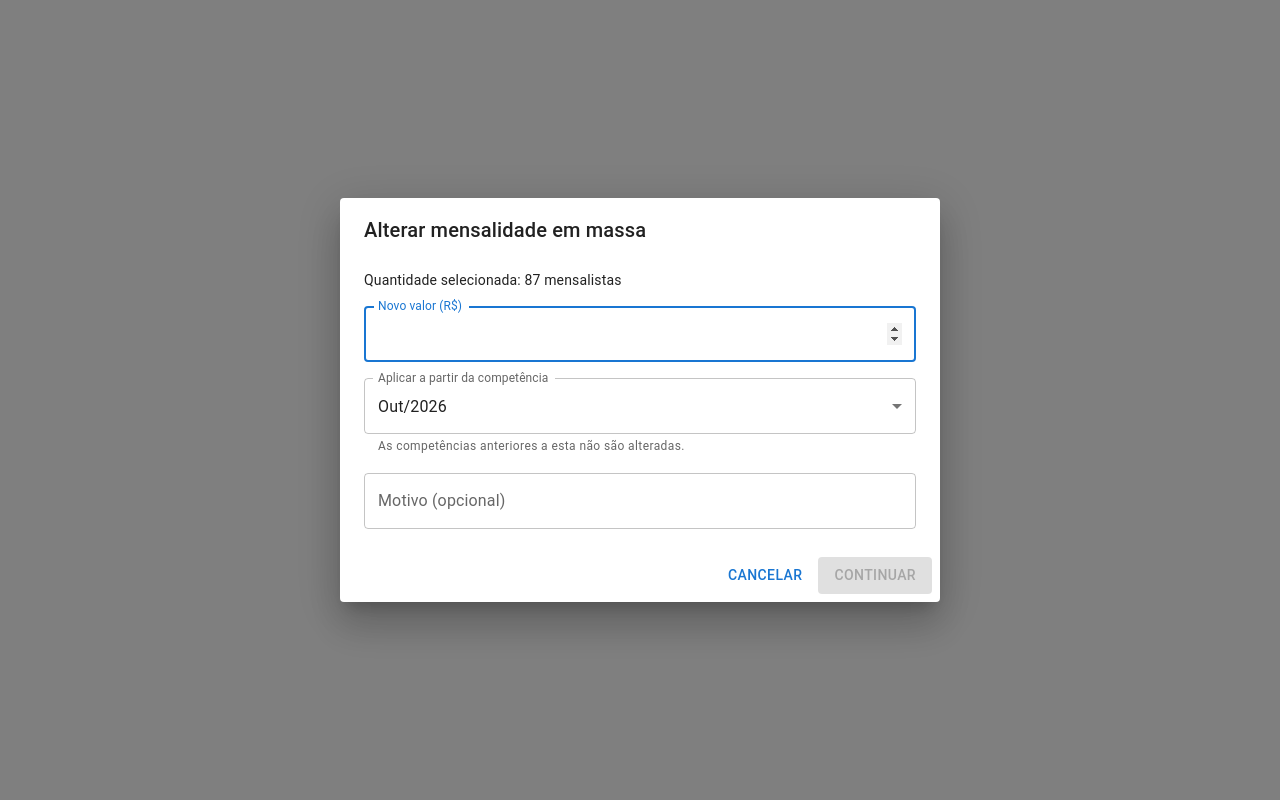
it: alteração em massa › resume valor anterior, novo valor e competência antes de confirmar
Expected: the text "Quantidade selecionada: 87 mensalistas" is shown, [364, 272, 622, 288]
Type "120" into the number field labelled "Novo valor (R$)" at point(640, 334), box [364, 306, 916, 362]
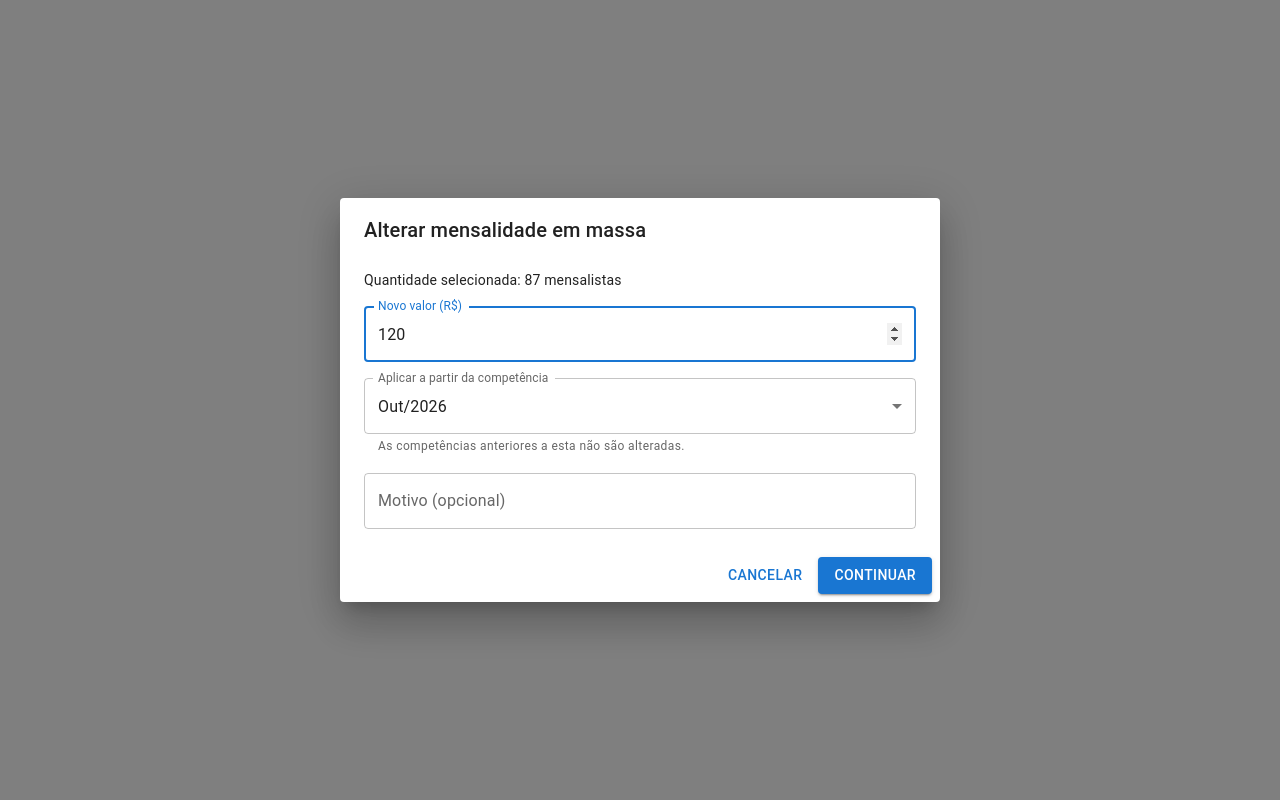
Click the button "Continuar" at point(875, 575), box [818, 557, 932, 594]
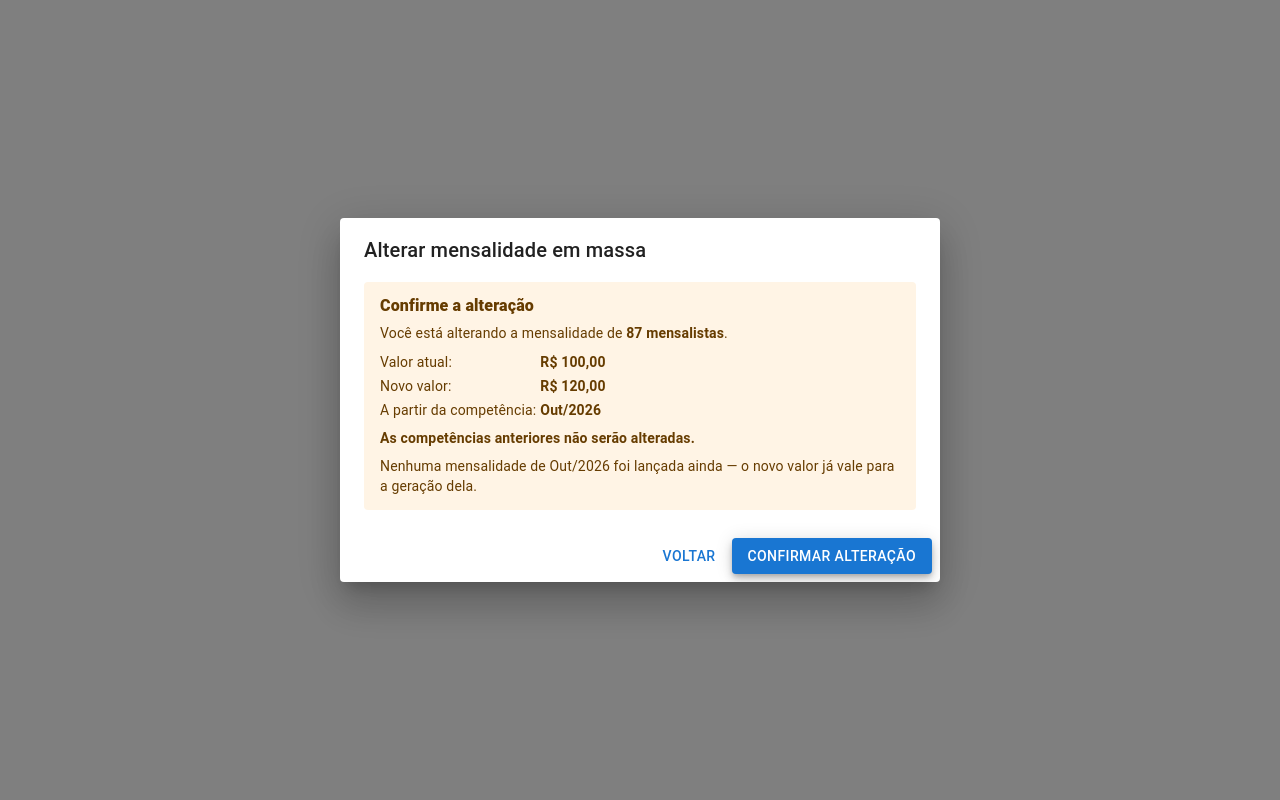
Expected: the message with test id "fee-change-confirmation" shows "87 mensalistas", [626, 326, 724, 342]
